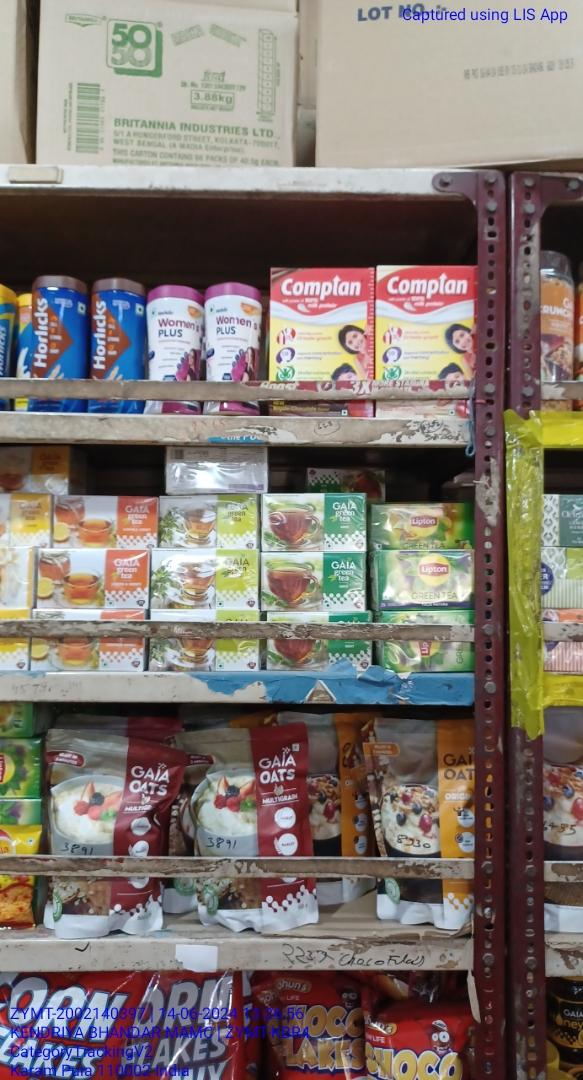COMPLAN_CHOCOLATE_500_GMS_PACK: (271, 270, 373, 417)
COMPLAN_KESAR_BADAM_500_GMS_PACK: (375, 266, 470, 419)
HORLICK_CHOCOLATE_500_G_JAR: (31, 276, 87, 413), (91, 279, 143, 413)
